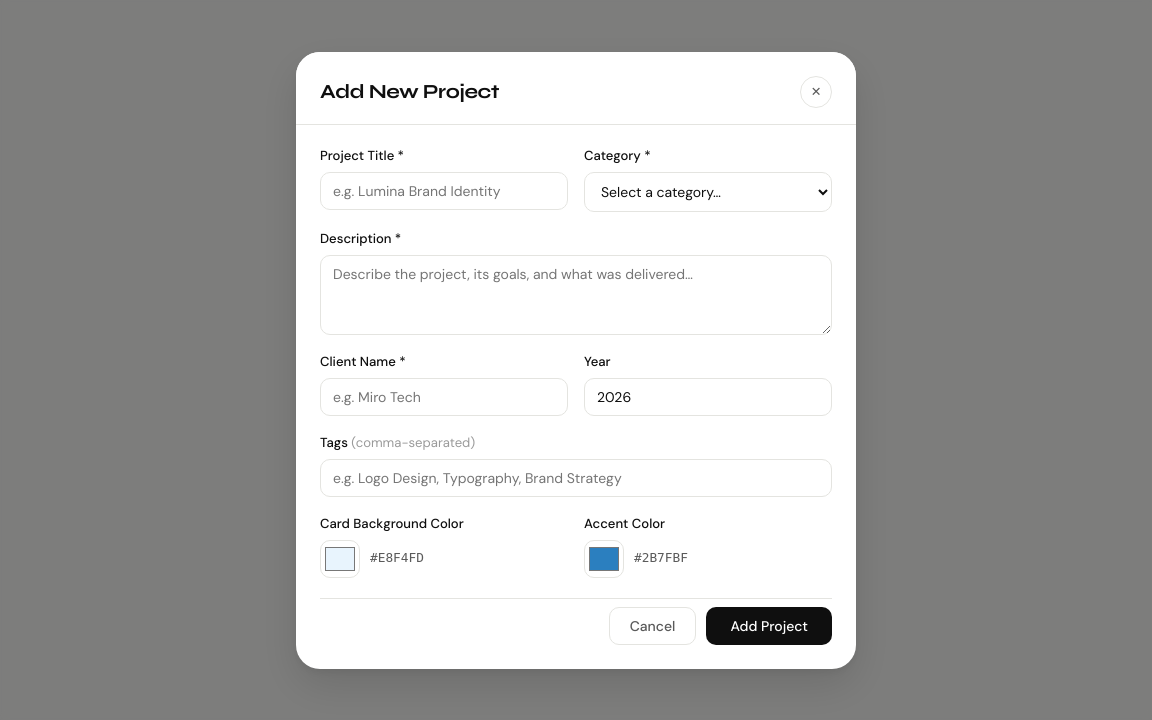
Scenario: AddProjectModal › shows validation errors when submitting an empty form
The width and height of the screenshot is (1152, 720).
Click the button "Add Project": (769, 626) [706, 606, 832, 644]
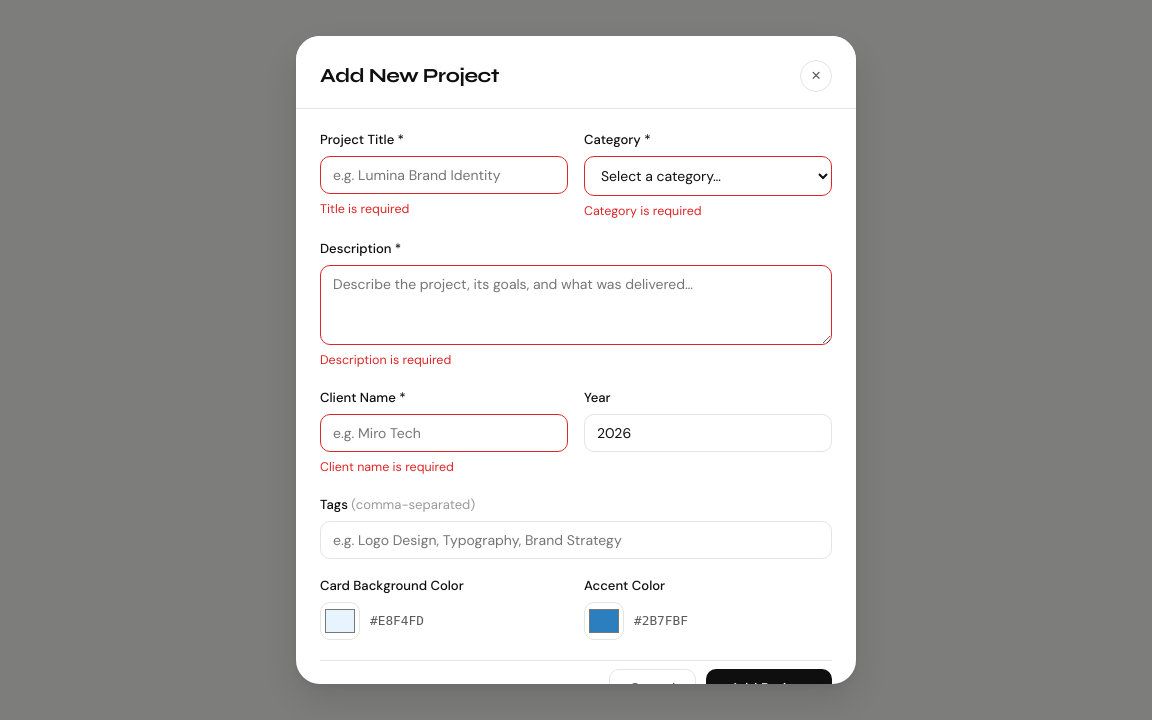
Expected: the text "Title is required" is shown, [320, 201, 409, 217]
Expected: the text "Category is required" is shown, [584, 203, 702, 219]
Expected: the text "Description is required" is shown, [320, 352, 451, 368]
